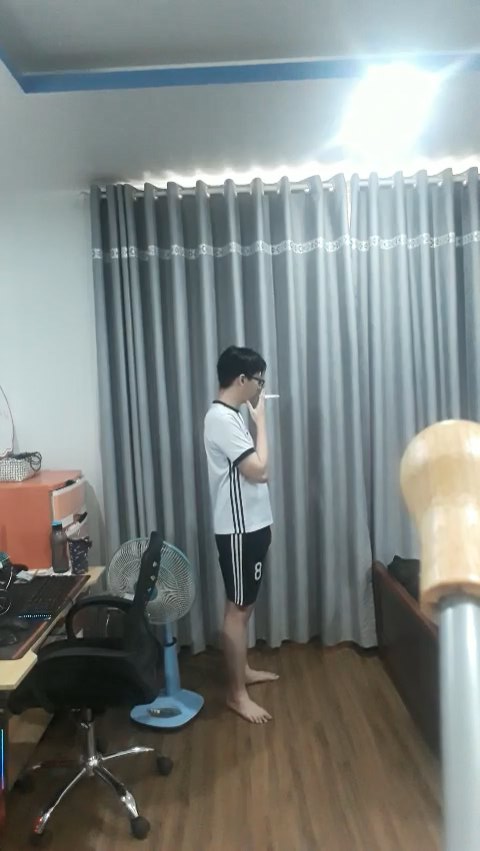cigarette: (265, 392, 281, 399)
person: (187, 318, 306, 733)
